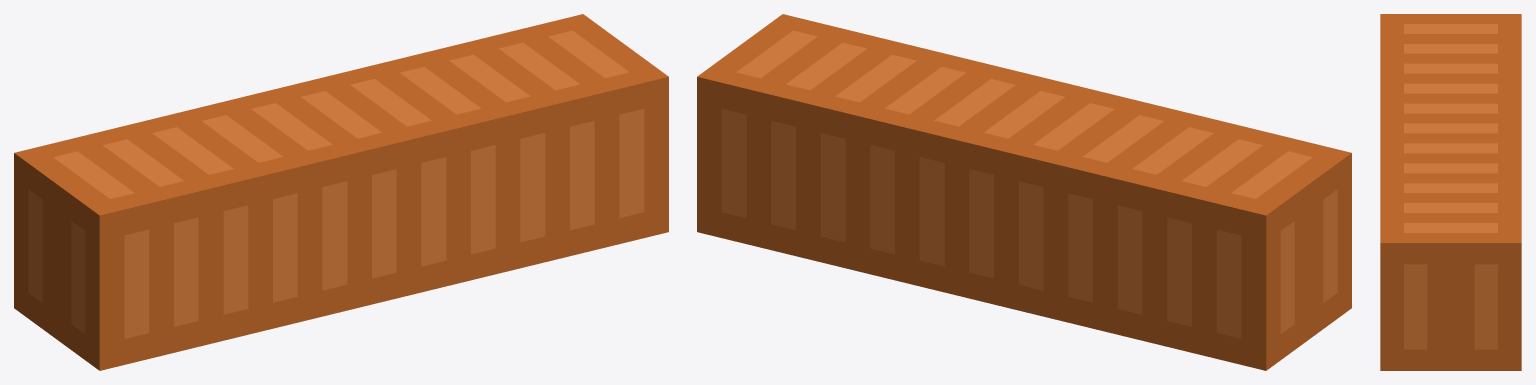
Rendered from container-orange.gltf.
3 renders of one model, left to right at view 1: azimuth 30°, elevation 25°; view 2: azimuth 150°, elevation 25°; view 3: azimuth 270°, elevation 25°, orthographic. The views are drawn at different scales.
Visible parts, largest first — view 1: model; view 2: model; view 3: model.
Boxes of the visible parts, <box> form: model: <box>14,14,668,370</box>; model: <box>697,14,1351,370</box>; model: <box>1380,14,1521,370</box>.
Bounding box in the file's own units: 2.3 × 0.6 × 0.6.
1 material, 1 textured.
